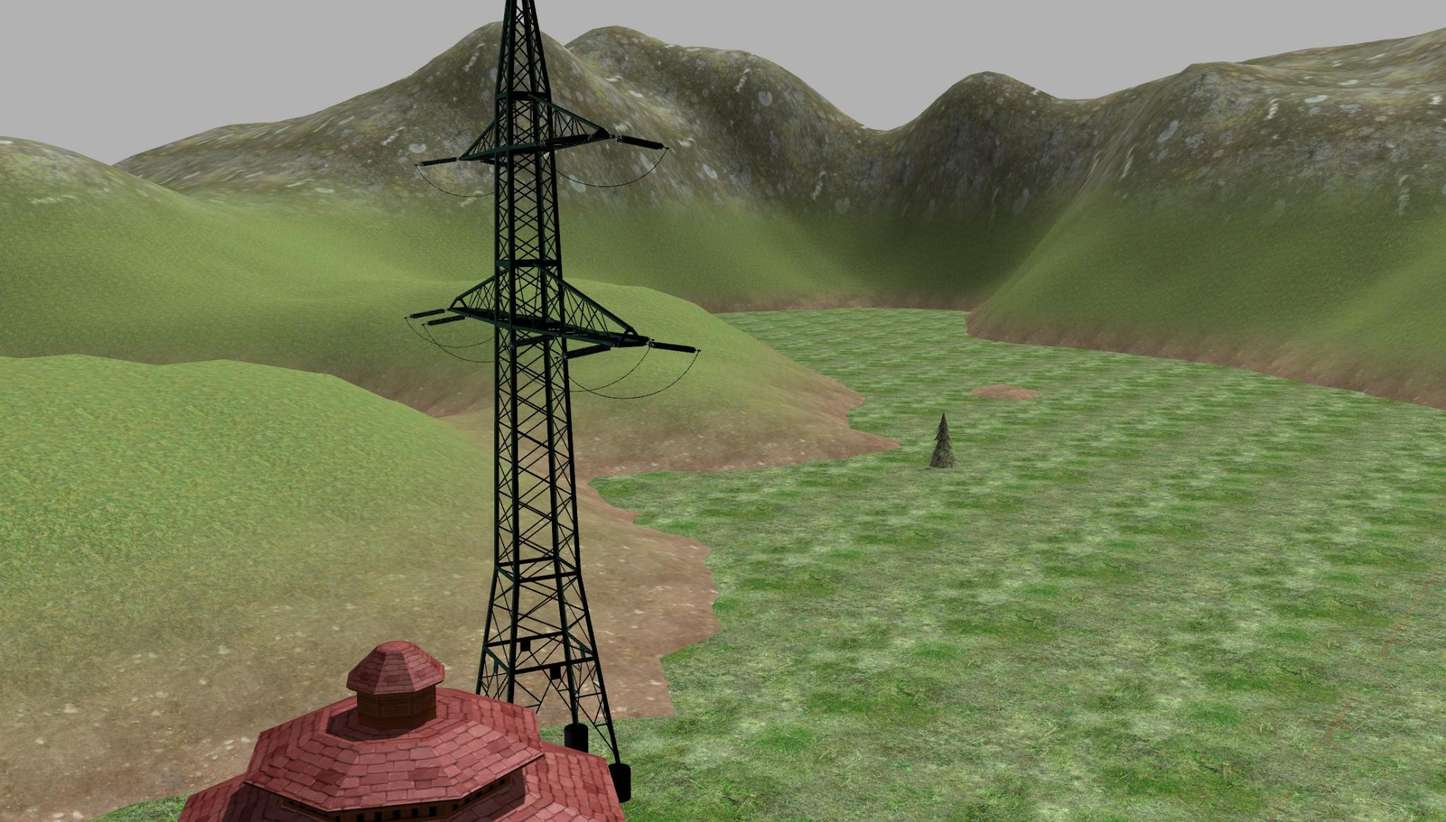tower: (447, 0, 653, 729)
